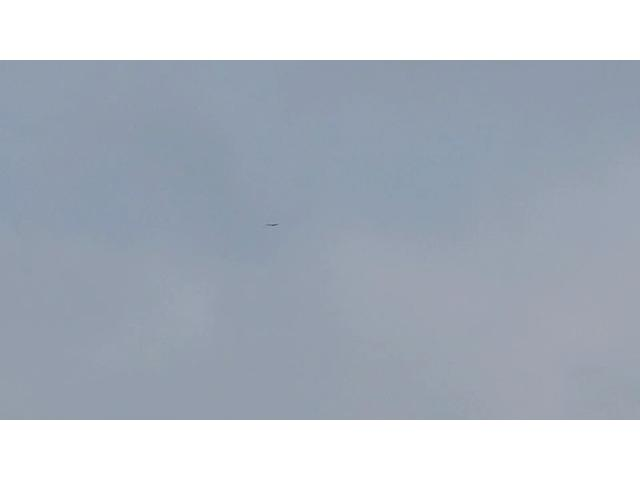Anti-Drone: (265, 223, 279, 227)
